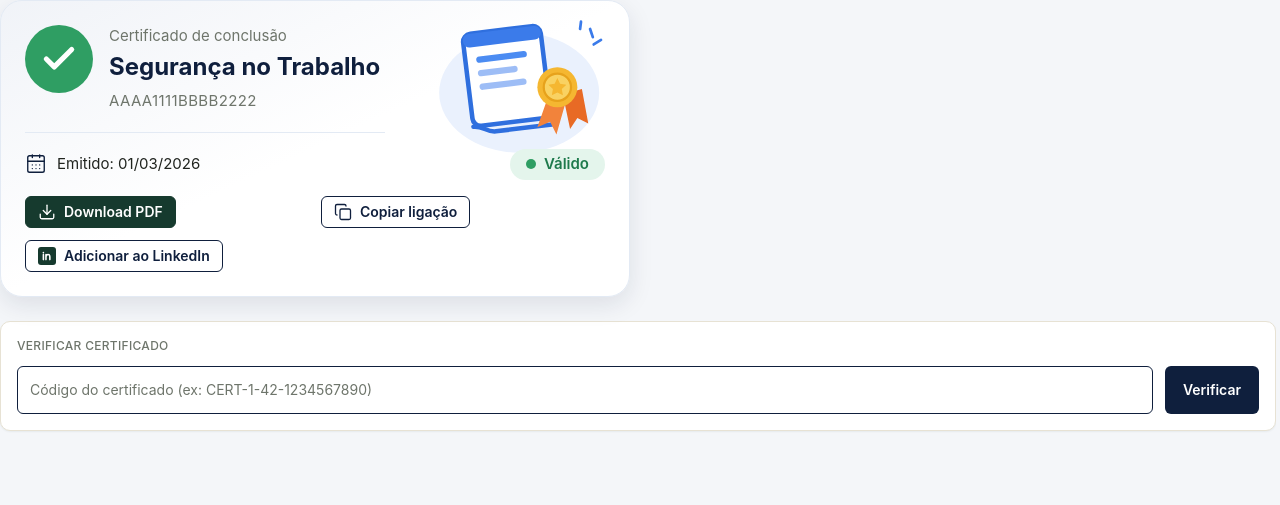
it: CertificatesView — área pessoal › colaborador só verifica os seus próprios certificados
Type "ZZZZ9999ZZZZ9999" into the field with placeholder "Código do certificado (ex: CERT-1-42-1234567890)" at (585, 390), box x1=17 y1=366 x2=1153 y2=414
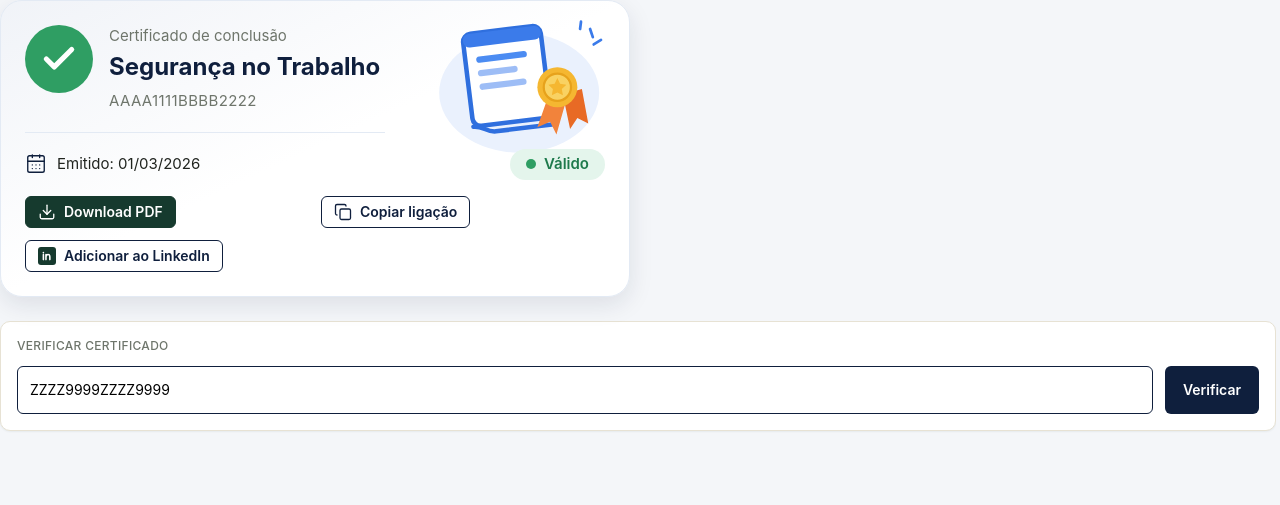
Click the button "Verificar" at (1212, 390), box x1=1165 y1=366 x2=1259 y2=414
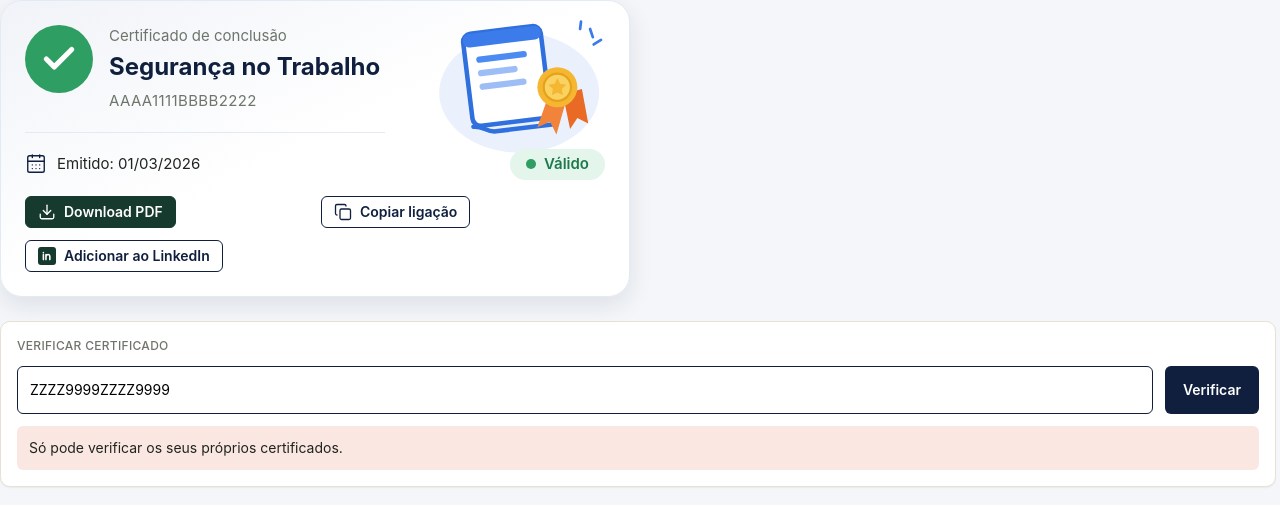
Expected: the text "Só pode verificar os seus próprios certificados." is shown, x1=17 y1=426 x2=1259 y2=470
